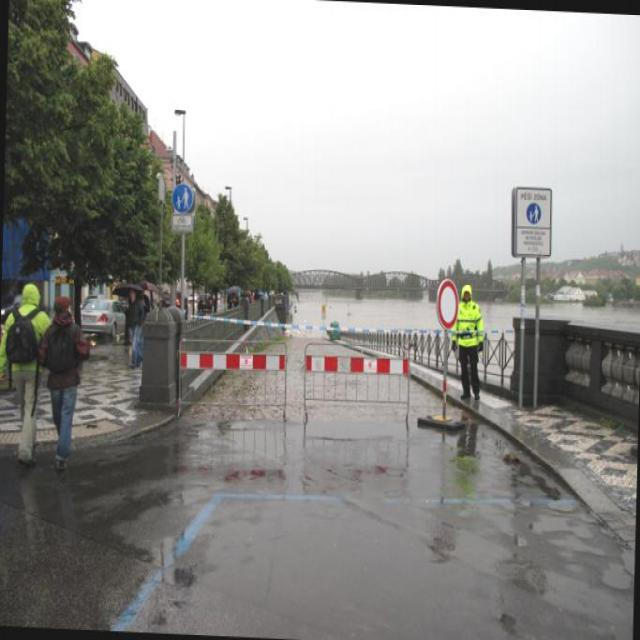flood: (189, 272, 437, 422)
